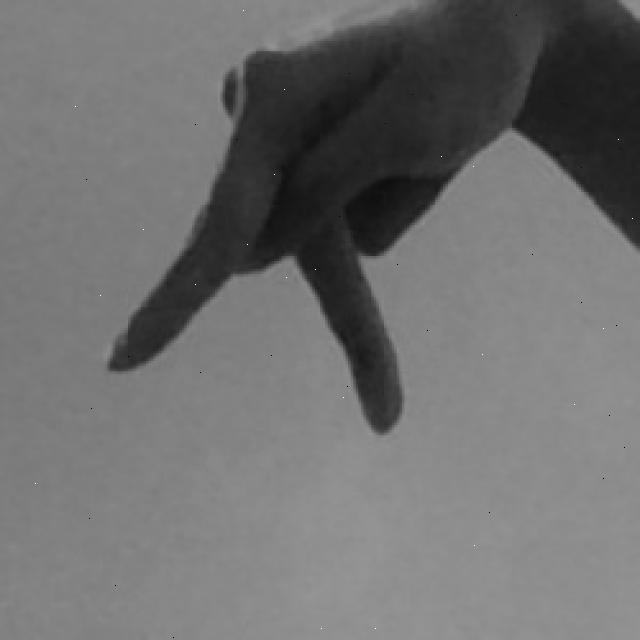P: (96, 0, 640, 441)
